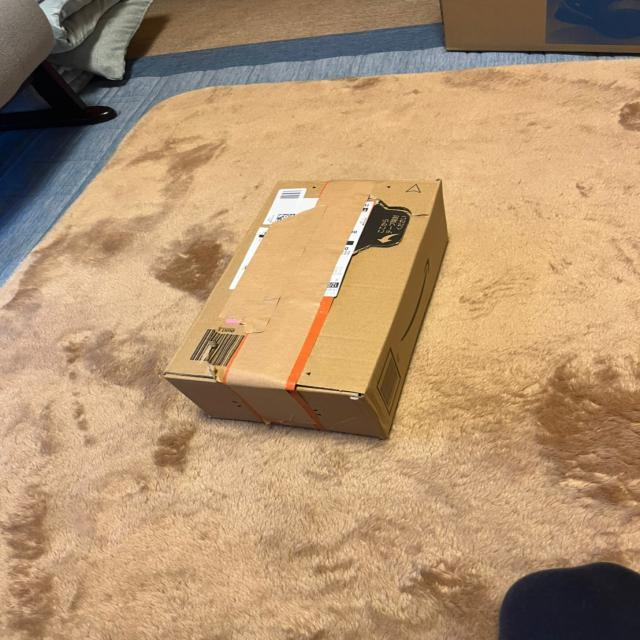-: (157, 174, 459, 443)
